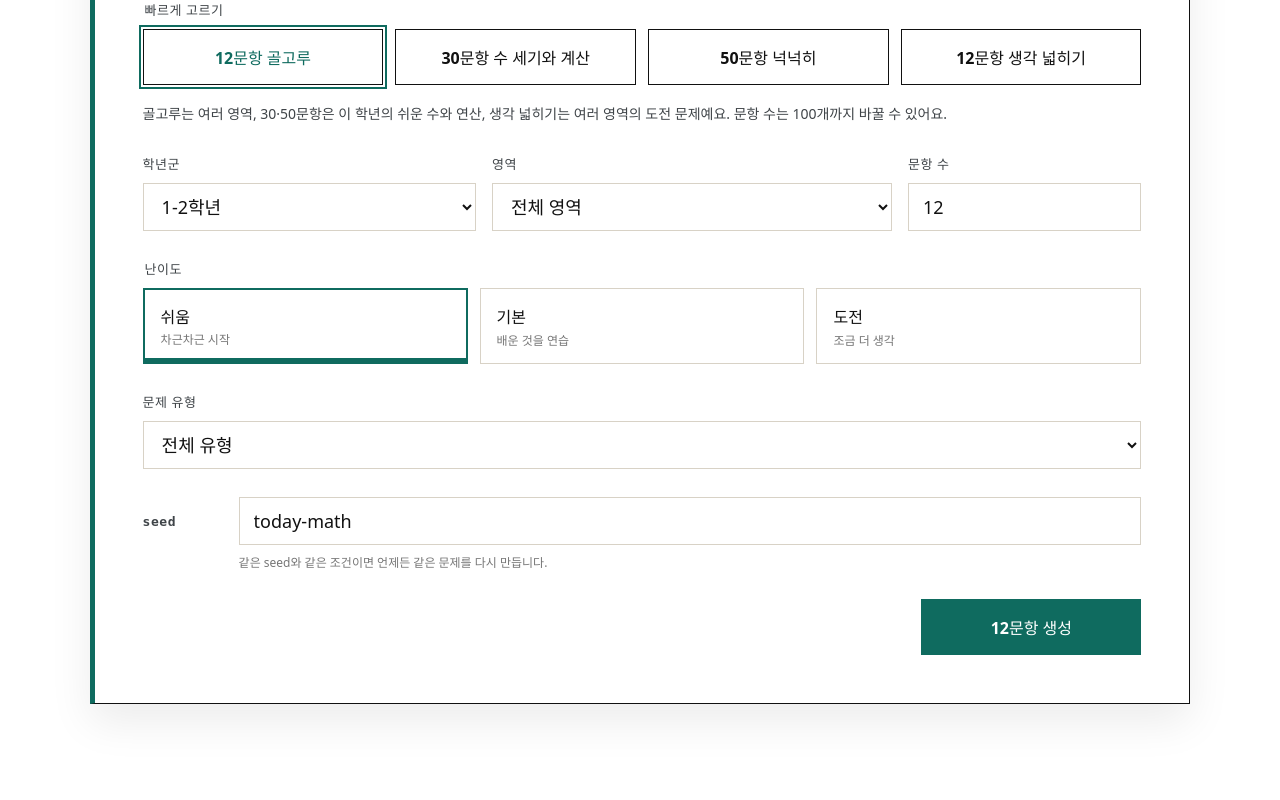
subject worksheet experience › defaults to twelve easy lower-grade math questions and keeps optional practice explicit
(page scrolled)
Expected: the dropdown labelled "학년군" shows "1-2학년", [143, 183, 476, 231]
Expected: the number field labelled "문항 수" holds "12", [908, 183, 1141, 231]
Click the button "12문항 생성". click: (1031, 627)
box: [921, 599, 1141, 655]
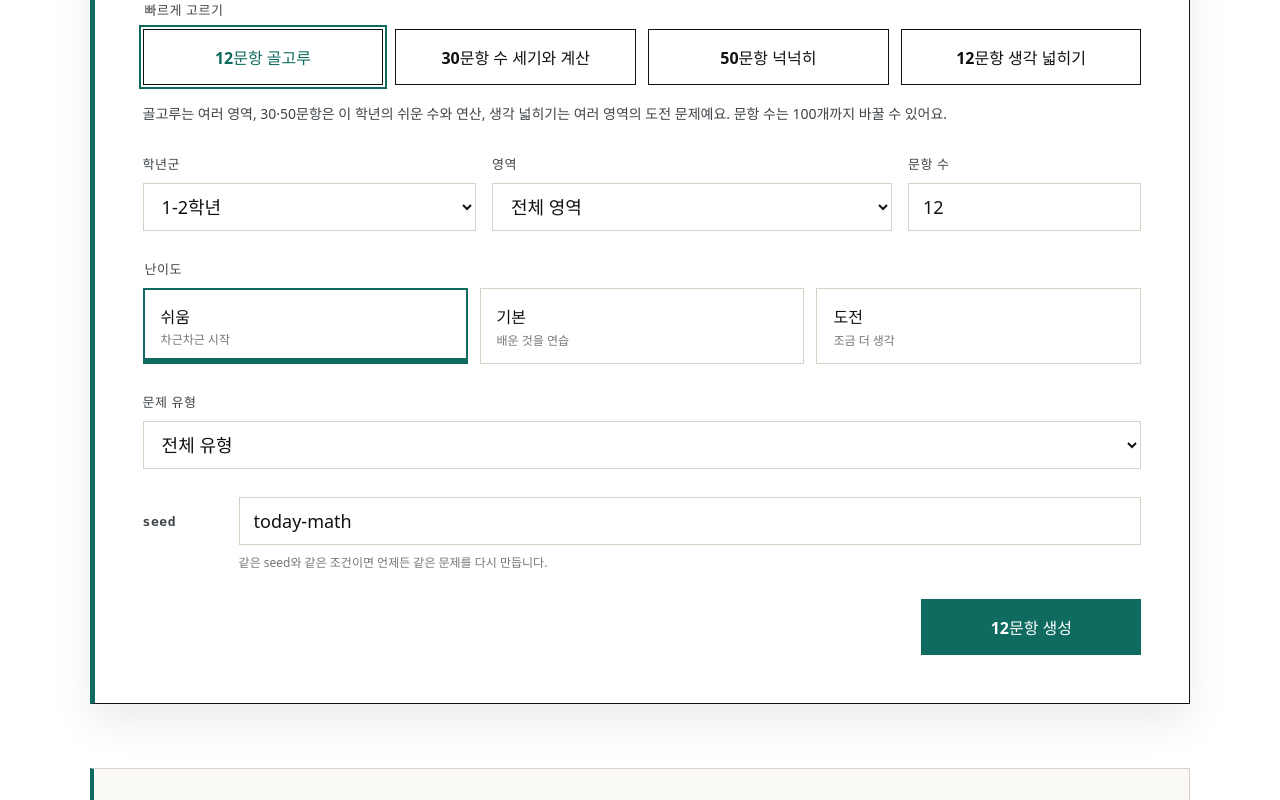
Click the button "30문항 수 세기와 계산". click: (516, 57)
box: [395, 29, 636, 85]
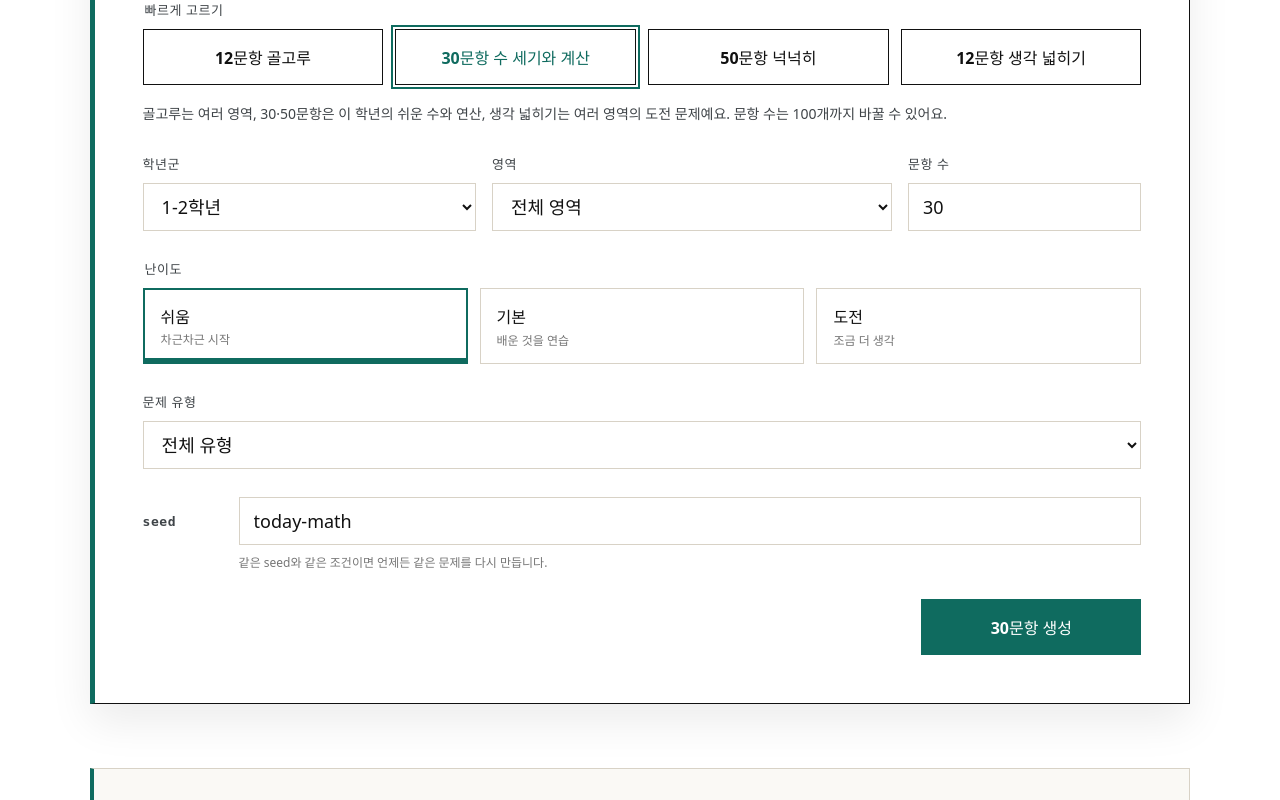
Result: the number field labelled "문항 수" holds "30" at [908, 183, 1141, 231]
